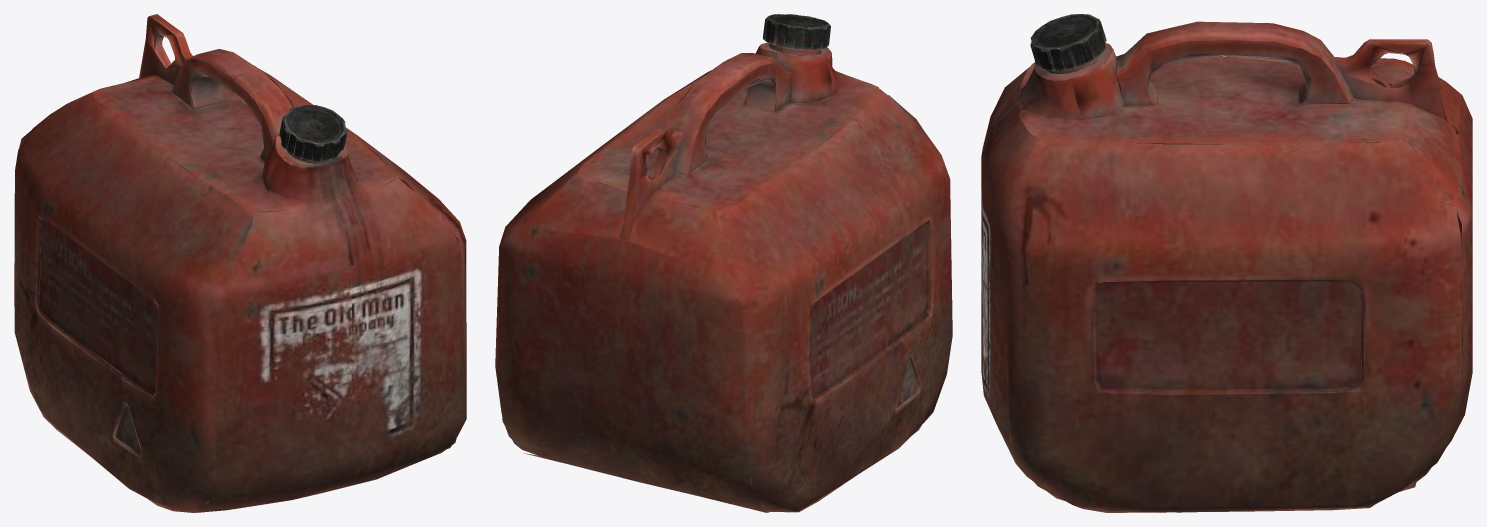
File: pjerrycan.glb
The picture shows the model from 3 angles, left to right: view 1: azimuth 30°, elevation 25°; view 2: azimuth 150°, elevation 25°; view 3: azimuth 270°, elevation 25°; orthographic projection. The views are drawn at different scales.
Visible parts, largest first — view 1: plastic_jerrycan; view 2: plastic_jerrycan; view 3: plastic_jerrycan.
Boxes of the visible parts, box(x1,y1,x2,y2) form: plastic_jerrycan: box(14, 14, 466, 512); plastic_jerrycan: box(495, 14, 952, 512); plastic_jerrycan: box(981, 14, 1472, 512).
Bounding box in the file's own units: 0.2676 × 0.3186 × 0.3399.
Materials: 1 (1 with a texture image).
